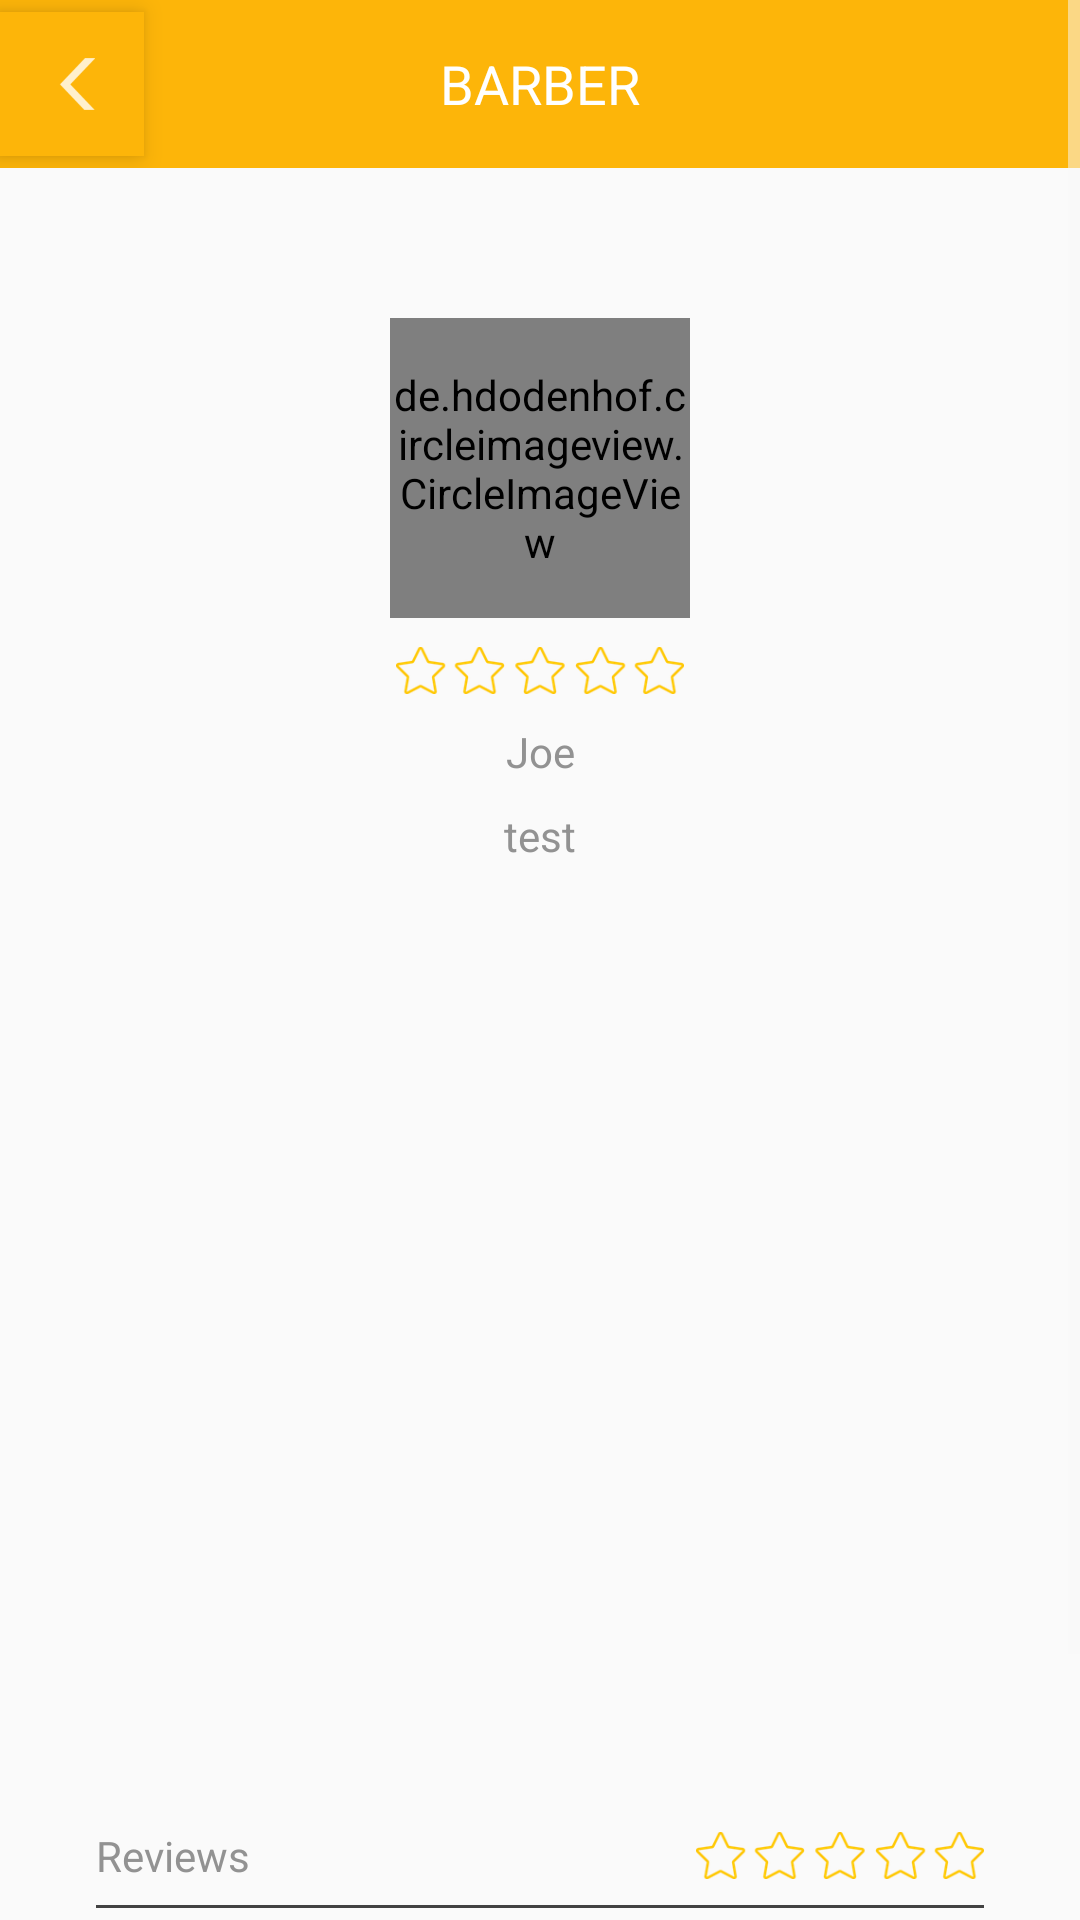

Screen size 1080px x 1920px. Icon name, then its box in pixels as (x1, y1, x2, y2):
back: (0, 12, 144, 156)
